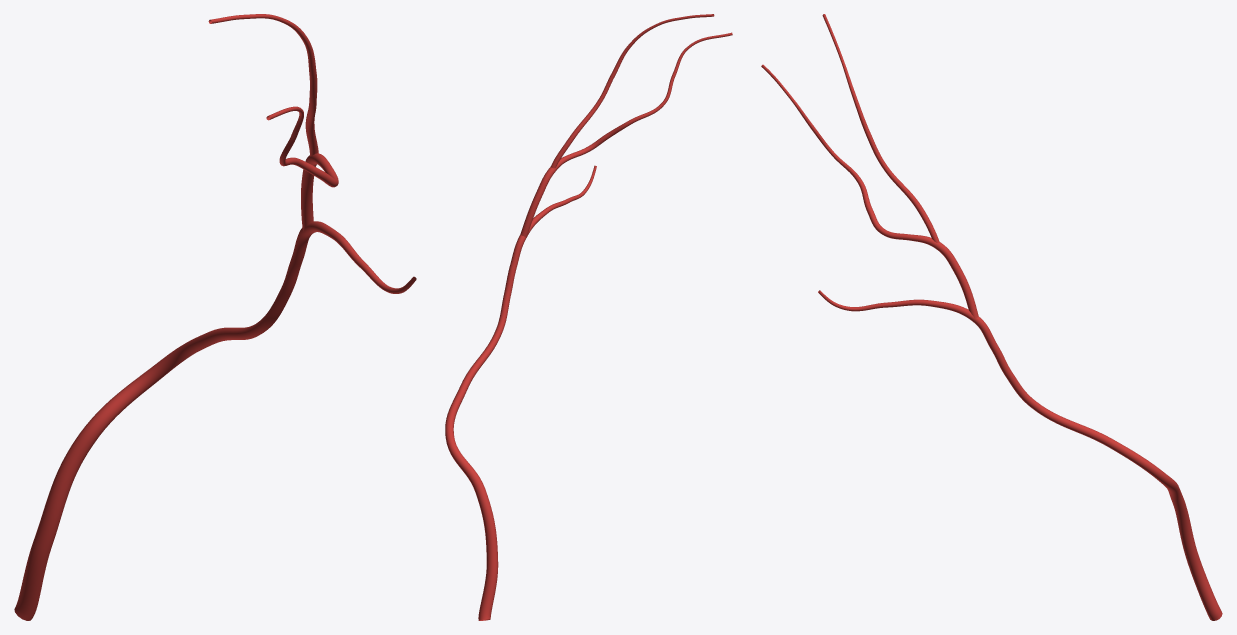
The picture shows the model from 3 angles, left to right: view 1: azimuth 30°, elevation 25°; view 2: azimuth 150°, elevation 25°; view 3: azimuth 270°, elevation 25°; orthographic projection. The views are drawn at different scales.
Parts seen in each view (by area): view 1: 右侧顶枕动脉; view 2: 右侧顶枕动脉; view 3: 右侧顶枕动脉.
Part boxes in pixels (x1,y1,x2,y2): 右侧顶枕动脉: [14, 14, 416, 620]; 右侧顶枕动脉: [445, 14, 732, 620]; 右侧顶枕动脉: [761, 14, 1222, 620].
Size of the model in its own units: 0.0248 by 0.091 by 0.0665.
